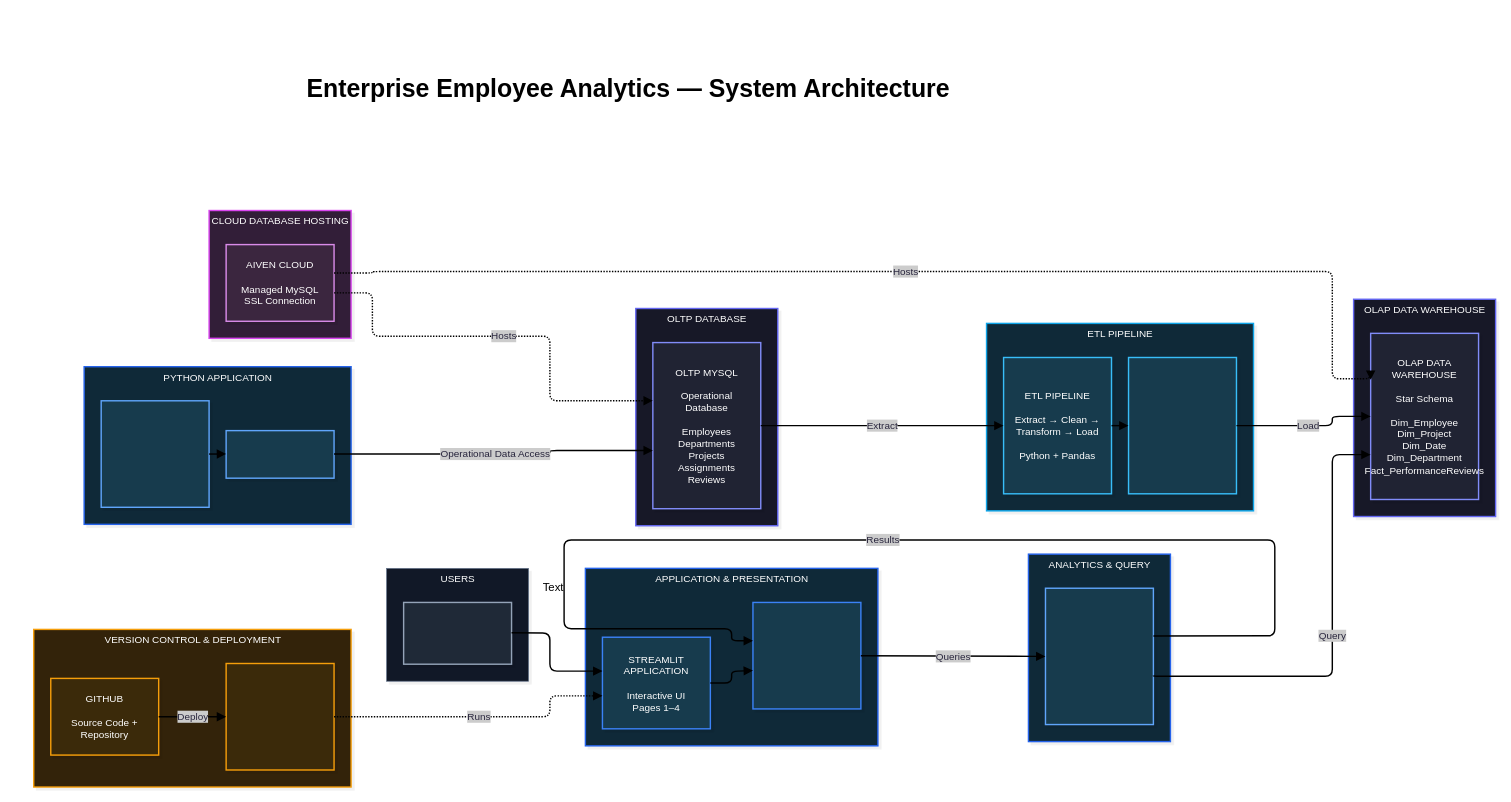
Image size: 1511x802. Some labels were removed from this diagram. The shapes that lost their labels are listed below. From the top down, each one's centre as x and y in pixels, then its label:
At [1183,426]: "SCD TYPE 2 Historical Employee Changes Start Date • End Date • Is Current".
At [156,455]: "PYTHON APPLICATION Application Logic Database Connections".
At [281,455]: "MySQL Database Access".
At [459,634]: "USER HR / Executive".
At [808,656]: "ANALYTICS DASHBOARD KPIs • Charts Employee Insights".
At [1100,657]: "ANALYTICS SQL CTEs Window Functions LAG() • RANK() • DENSE_RANK()".
At [281,717]: "STREAMLIT COMMUNITY CLOUD Application Deployment".
